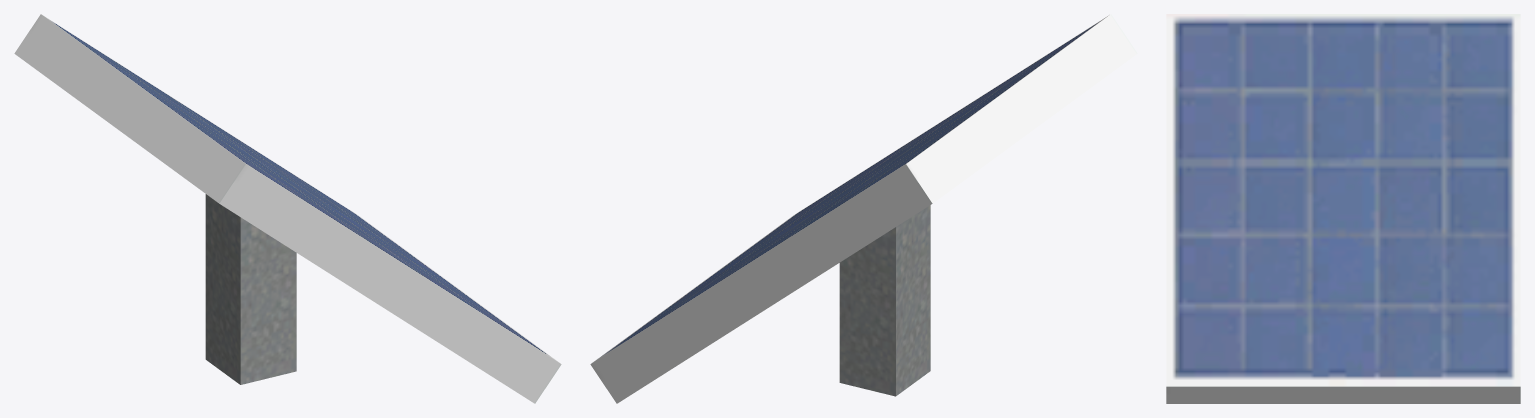
Rendered from 00_03_outside_sunpanel.DAE.
3 renders of one model, left to right at view 1: azimuth 30°, elevation 25°; view 2: azimuth 150°, elevation 25°; view 3: azimuth 270°, elevation 25°, orthographic. The views are drawn at different scales.
Visible parts, largest first — view 1: Sunpanel; view 2: Sunpanel; view 3: Sunpanel.
Part boxes in pixels (x1,y1,x2,y2): Sunpanel: (14, 14, 561, 403); Sunpanel: (590, 14, 1137, 403); Sunpanel: (1166, 14, 1520, 403).
Size of the model in its own units: 1.06 by 0.9166 by 1.1.
